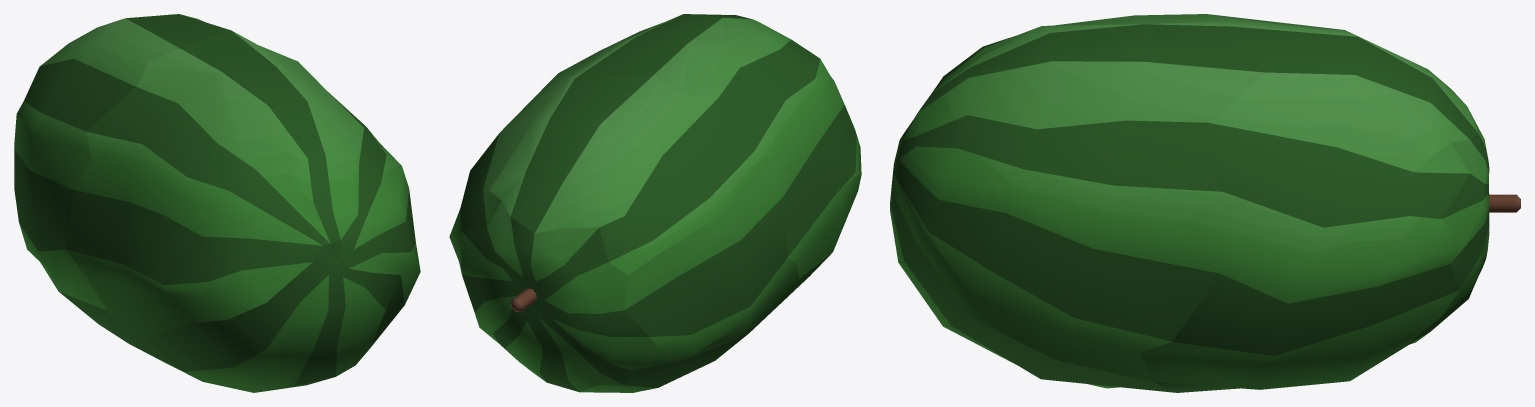
Rendered from wMelon_broken_SM.fbx.
The picture shows the model from 3 angles, left to right: view 1: azimuth 30°, elevation 25°; view 2: azimuth 150°, elevation 25°; view 3: azimuth 270°, elevation 25°; orthographic projection. The views are drawn at different scales.
Parts seen in each view (by area): view 1: melonBit_SM_04, melonBit_SM_06, melonBit_SM_05, melonBit_SM_03, melonBit_SM_02; view 2: melonBit_SM_03, melonBit_SM_01, melonBit_SM_04, melonBit_SM_02, melonBit_SM_06, melonBit_SM_07; view 3: melonBit_SM_06, melonBit_SM_07, melonBit_SM_03, melonBit_SM_05, melonBit_SM_01, melonBit_SM_04.
Boxes of the visible parts, x1=… form: melonBit_SM_04: x1=65, y1=61, x2=330, y2=337; melonBit_SM_06: x1=150, y1=30, x2=420, y2=304; melonBit_SM_05: x1=108, y1=240, x2=404, y2=392; melonBit_SM_03: x1=17, y1=14, x2=230, y2=157; melonBit_SM_02: x1=14, y1=114, x2=128, y2=343; melonBit_SM_03: x1=489, y1=75, x2=770, y2=275; melonBit_SM_01: x1=461, y1=201, x2=662, y2=392; melonBit_SM_04: x1=677, y1=22, x2=861, y2=278; melonBit_SM_02: x1=598, y1=161, x2=798, y2=391; melonBit_SM_06: x1=558, y1=14, x2=762, y2=92; melonBit_SM_07: x1=449, y1=73, x2=637, y2=392; melonBit_SM_06: x1=893, y1=20, x2=1265, y2=381; melonBit_SM_07: x1=1114, y1=94, x2=1470, y2=392; melonBit_SM_03: x1=1207, y1=14, x2=1477, y2=154; melonBit_SM_05: x1=890, y1=134, x2=1176, y2=392; melonBit_SM_01: x1=1409, y1=107, x2=1520, y2=342; melonBit_SM_04: x1=903, y1=14, x2=1239, y2=135.
Size of the model in its own units: 41.14 by 41.33 by 68.72.
